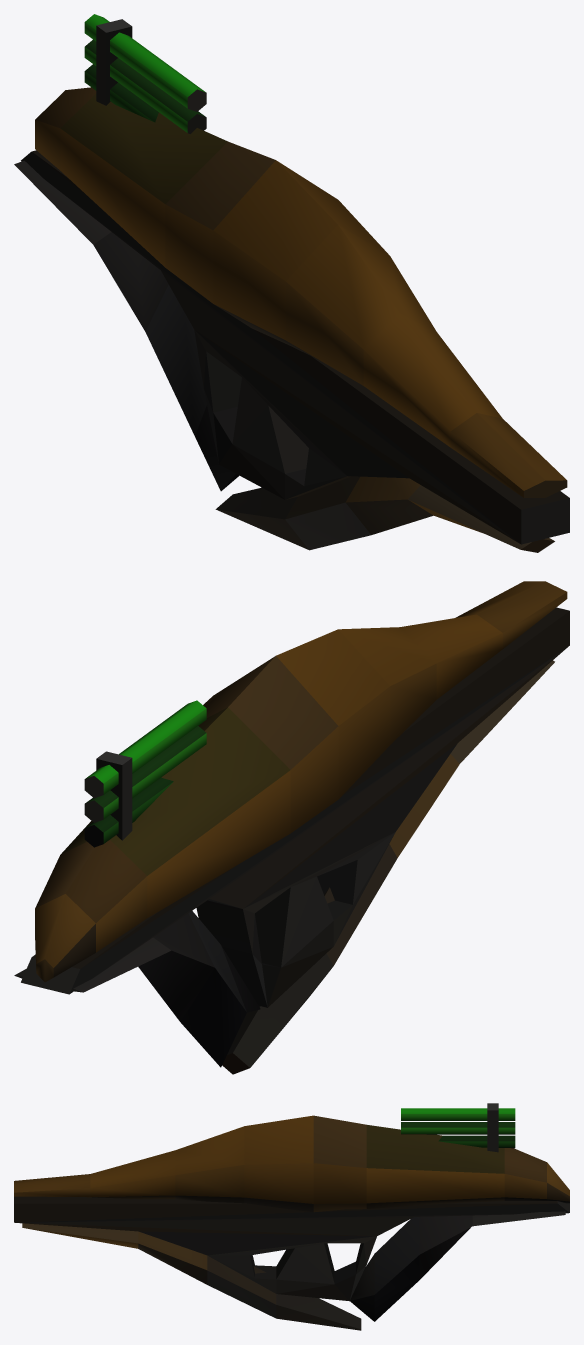
The model's file is Weapon_FuelRod.fbx.
3 renders of one model, top to bottom at view 1: azimuth 30°, elevation 25°; view 2: azimuth 150°, elevation 25°; view 3: azimuth 270°, elevation 25°, orthographic. The views are drawn at different scales.
Visible parts, largest first — view 1: Weapon; view 2: Weapon; view 3: Weapon.
Boxes of the visible parts, x1=… form: Weapon: x1=14, y1=14, x2=569, y2=552; Weapon: x1=14, y1=581, x2=569, y2=1074; Weapon: x1=14, y1=1103, x2=569, y2=1330.
Bounding box in the file's own units: 1.44 × 4.43 × 9.97.
